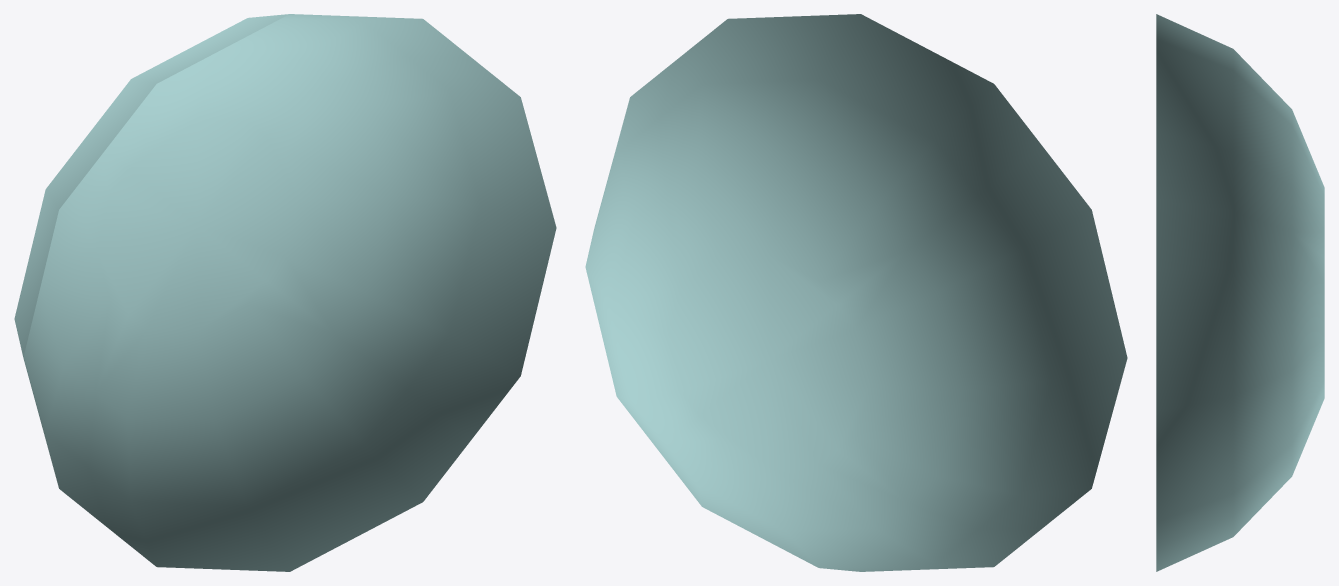
File: model_align.obj
3 views of the same model, side by side, from view 1: azimuth 30°, elevation 25°; view 2: azimuth 150°, elevation 25°; view 3: azimuth 270°, elevation 25° (orthographic). The views are drawn at different scales.
Parts seen in each view (by area): view 1: mesh1_mesh1-geometry; view 2: mesh1_mesh1-geometry; view 3: mesh1_mesh1-geometry.
Part boxes in pixels (x1,y1,x2,y2): mesh1_mesh1-geometry: (14, 14, 556, 571); mesh1_mesh1-geometry: (585, 14, 1127, 571); mesh1_mesh1-geometry: (1156, 14, 1324, 571).
Bounding box in the file's own units: 0.167 × 0.167 × 0.0501.
